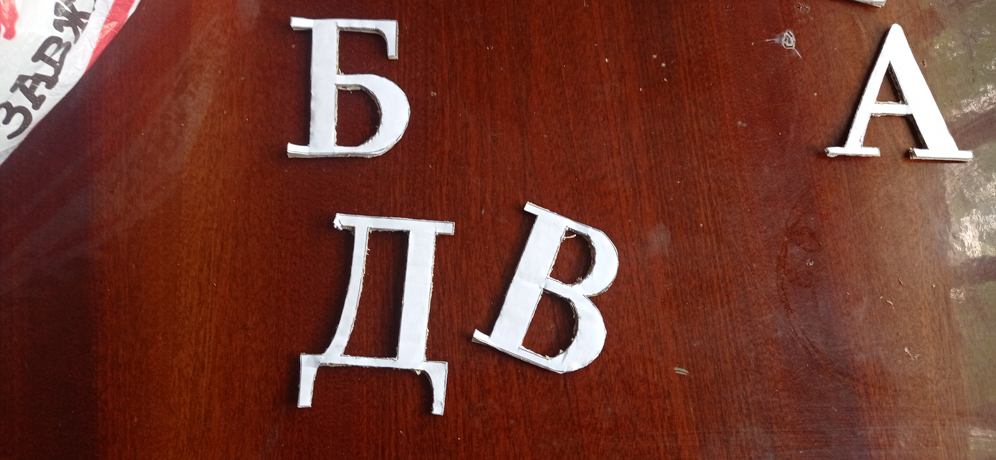a: (825, 21, 974, 166)
b: (283, 15, 414, 162)
d: (295, 210, 457, 418)
v: (467, 200, 622, 378)
